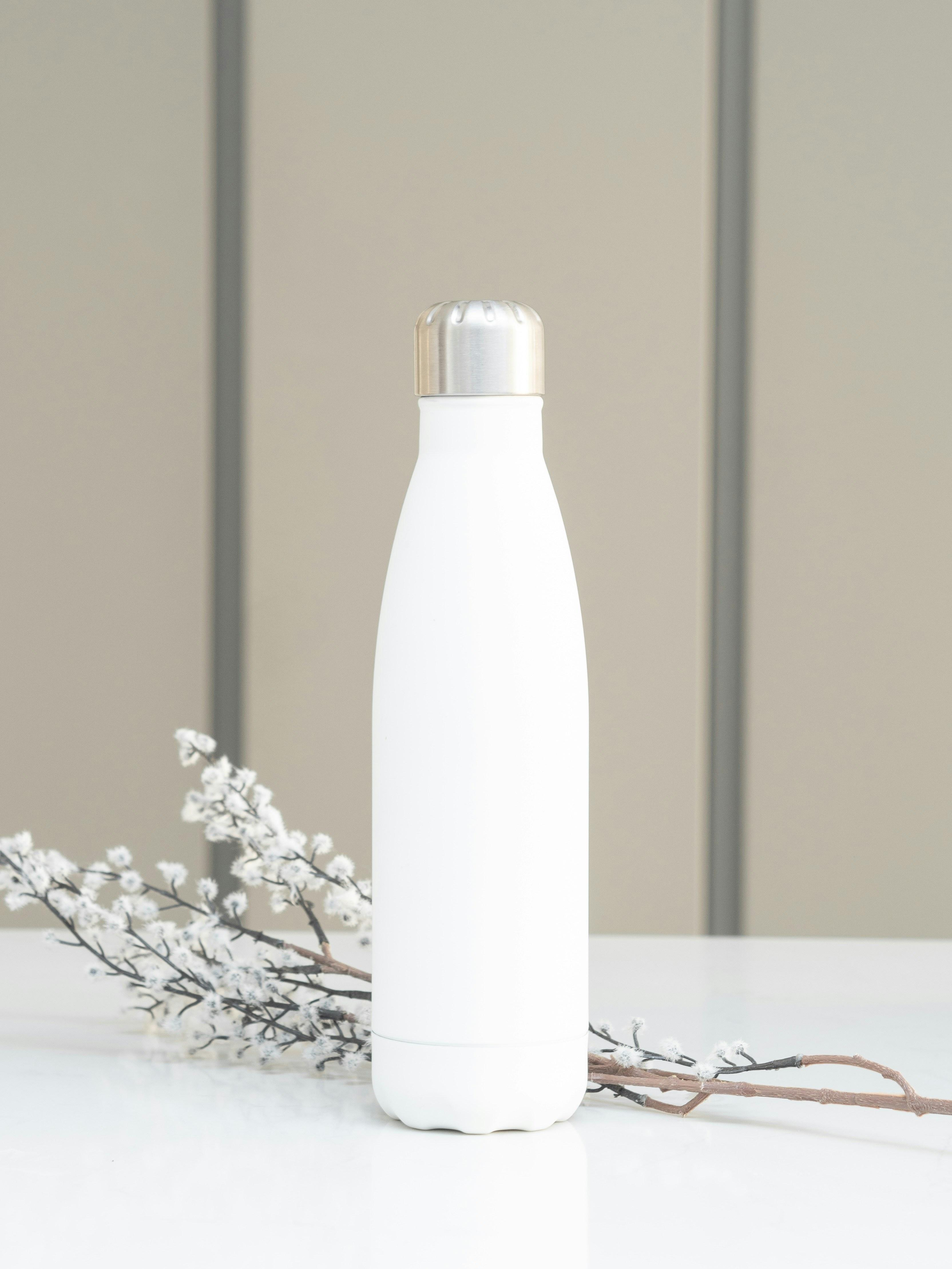Bottle-Detection: (300, 232, 646, 1190)
